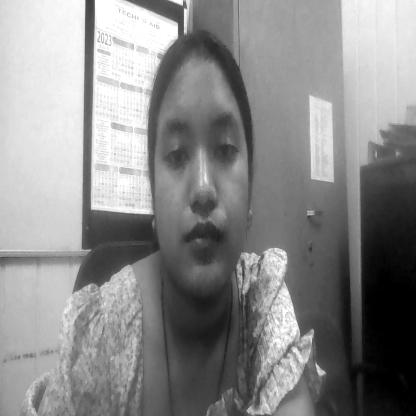Normal: (152, 59, 242, 309)
